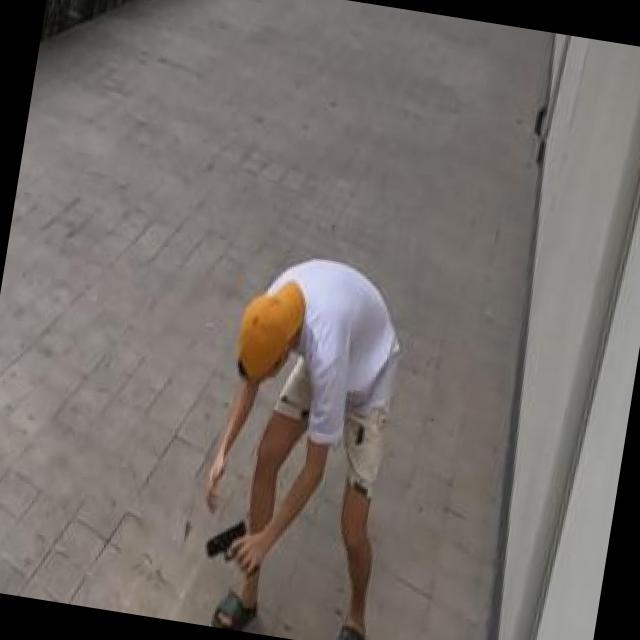Guns: (196, 508, 262, 579)
